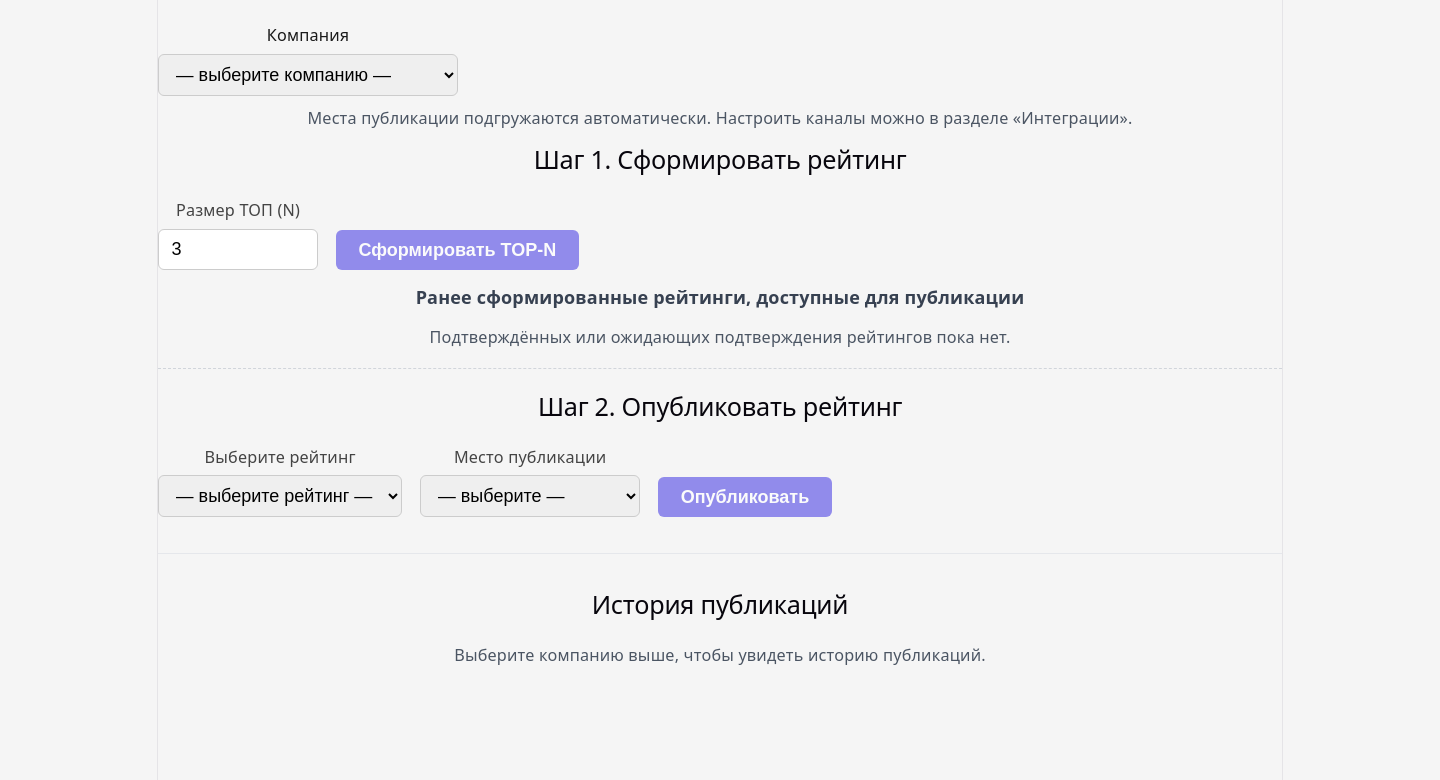
Test: PublicationsPage › после выбора компании автоматически загружает историю публикаций
Select "Тестовая компания" in the dropdown labelled "Компания": {"x": 308, "y": 75} [158,54,458,96]
(page scrolled)
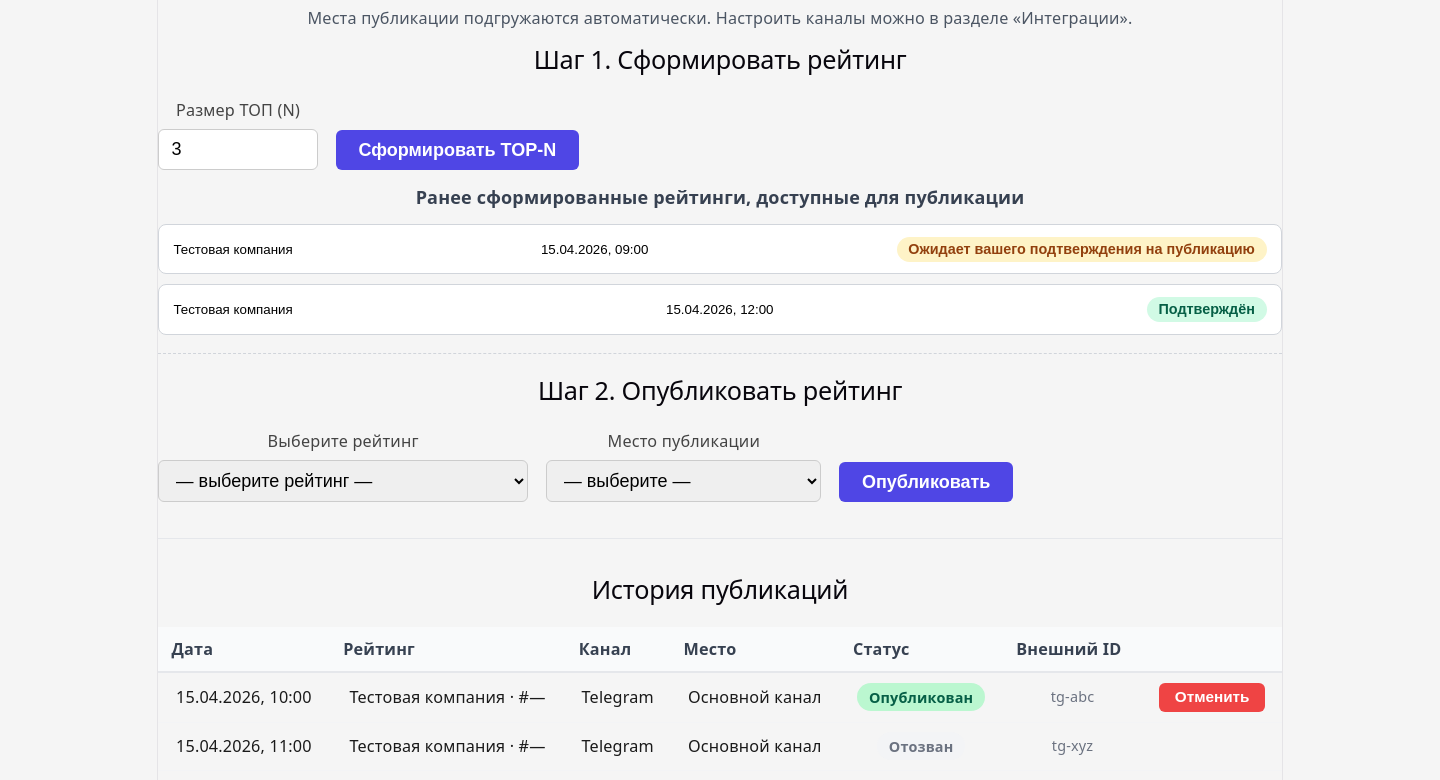
Result: the text "tg-abc" is shown at [1003,672,1142,722]
Result: the text "Опубликован" is shown at [857,683,985,711]
Result: the text "Отозван" is shown at [877,732,965,760]
